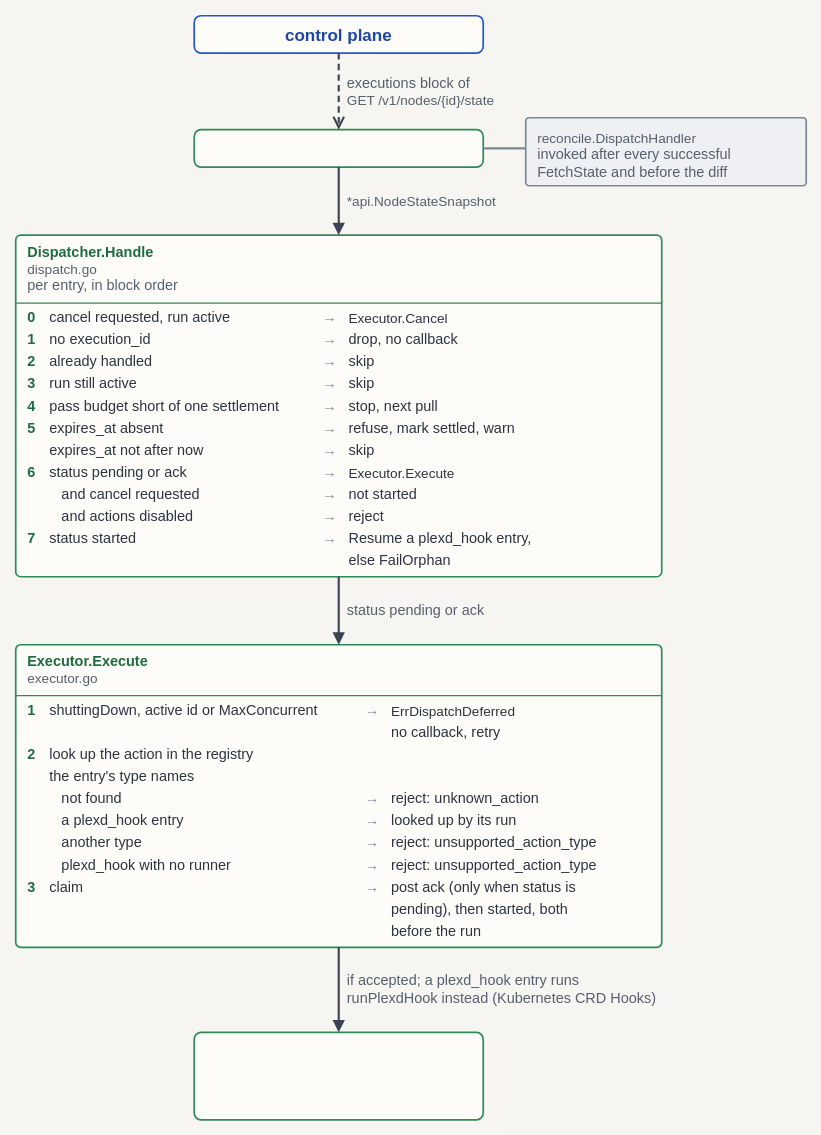
Image size: 821x1135. Some labels were removed from this diagram. Here are the shapes that lost their labels. From the top down, the box of each, then its label:
(193, 128, 484, 167): Reconciler dispatch stage
(193, 1031, 484, 1120): goroutine runAction reads the hook sidecar runBound
